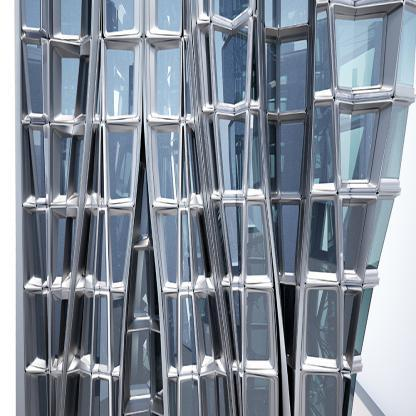Building Outline: (14, 0, 416, 416)
Facade: (15, 0, 416, 416)
Window: (334, 12, 387, 90), (339, 109, 379, 184), (214, 25, 248, 104), (306, 290, 337, 359), (381, 105, 409, 179), (309, 200, 337, 273), (366, 199, 394, 269), (219, 116, 245, 190), (280, 40, 307, 111), (107, 49, 134, 116), (280, 122, 304, 193), (343, 203, 367, 274), (108, 132, 133, 200), (156, 48, 181, 116), (314, 105, 335, 184), (396, 5, 416, 85), (246, 292, 269, 360), (156, 131, 178, 200), (247, 206, 267, 275), (305, 374, 337, 416), (130, 331, 150, 397), (110, 215, 129, 284), (315, 11, 331, 92), (354, 289, 373, 356), (282, 205, 300, 270), (133, 250, 150, 318), (225, 206, 241, 276), (27, 44, 43, 113), (246, 377, 271, 416), (62, 58, 79, 115), (163, 215, 177, 283), (182, 298, 196, 366), (343, 292, 357, 360), (106, 0, 134, 32), (248, 115, 260, 189), (33, 130, 45, 198), (96, 298, 108, 365), (157, 0, 181, 32), (199, 298, 212, 357), (113, 299, 124, 368), (265, 42, 276, 111), (217, 208, 228, 276), (61, 0, 82, 35), (188, 133, 200, 194), (281, 0, 308, 27), (215, 0, 249, 20), (225, 292, 235, 359), (193, 216, 204, 275), (268, 121, 277, 193), (35, 295, 45, 359), (210, 298, 221, 356), (60, 138, 71, 195), (285, 287, 294, 355), (32, 212, 41, 279), (182, 215, 191, 282), (182, 381, 199, 416), (168, 299, 176, 369), (140, 170, 148, 238), (94, 380, 109, 416), (98, 215, 106, 281), (272, 204, 280, 270), (57, 219, 66, 276), (80, 58, 89, 114), (155, 334, 163, 397), (201, 217, 210, 272), (234, 293, 241, 363), (218, 376, 230, 416), (74, 139, 83, 192), (211, 122, 218, 190), (89, 216, 97, 275), (28, 130, 35, 196), (40, 215, 47, 280), (347, 374, 357, 416), (205, 378, 216, 416), (25, 0, 40, 27), (86, 298, 93, 354), (77, 294, 84, 349), (38, 376, 47, 416), (55, 300, 61, 359), (96, 47, 101, 115), (72, 374, 80, 416), (207, 36, 212, 102), (186, 50, 191, 114), (70, 220, 76, 272), (252, 25, 256, 101), (265, 0, 276, 27), (84, 228, 90, 274), (183, 135, 187, 198), (63, 301, 68, 350), (86, 0, 92, 35), (171, 381, 177, 416), (114, 380, 119, 416), (342, 380, 347, 416), (54, 379, 57, 416), (203, 0, 209, 14), (102, 153, 103, 197)
